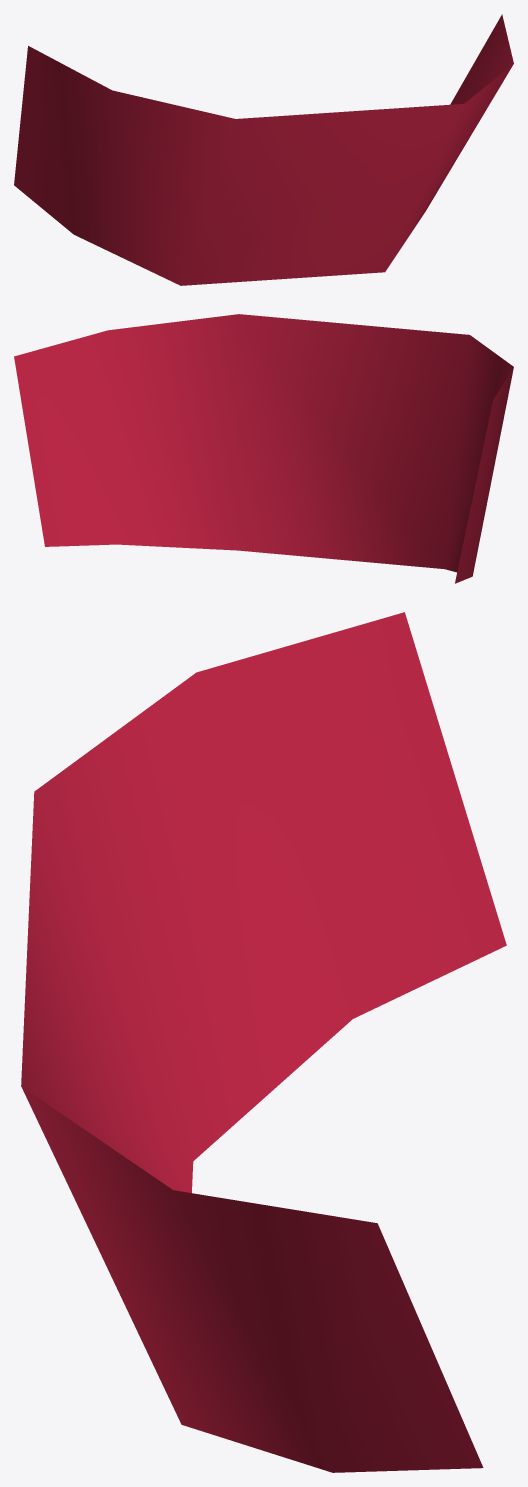
3 views of the same model, one above another, from view 1: azimuth 30°, elevation 25°; view 2: azimuth 150°, elevation 25°; view 3: azimuth 270°, elevation 25° (orthographic). The views are drawn at different scales.
Parts seen in each view (by area): view 1: ef_408; view 2: ef_408; view 3: ef_408.
Boxes of the visible parts, x1,y1,x2,y2 form: ef_408: (14,14,513,285); ef_408: (14,314,513,583); ef_408: (21,612,506,1472).
Size of the model in its own units: 0.9082 by 0.4816 by 0.4088.
1 material, 1 textured.
